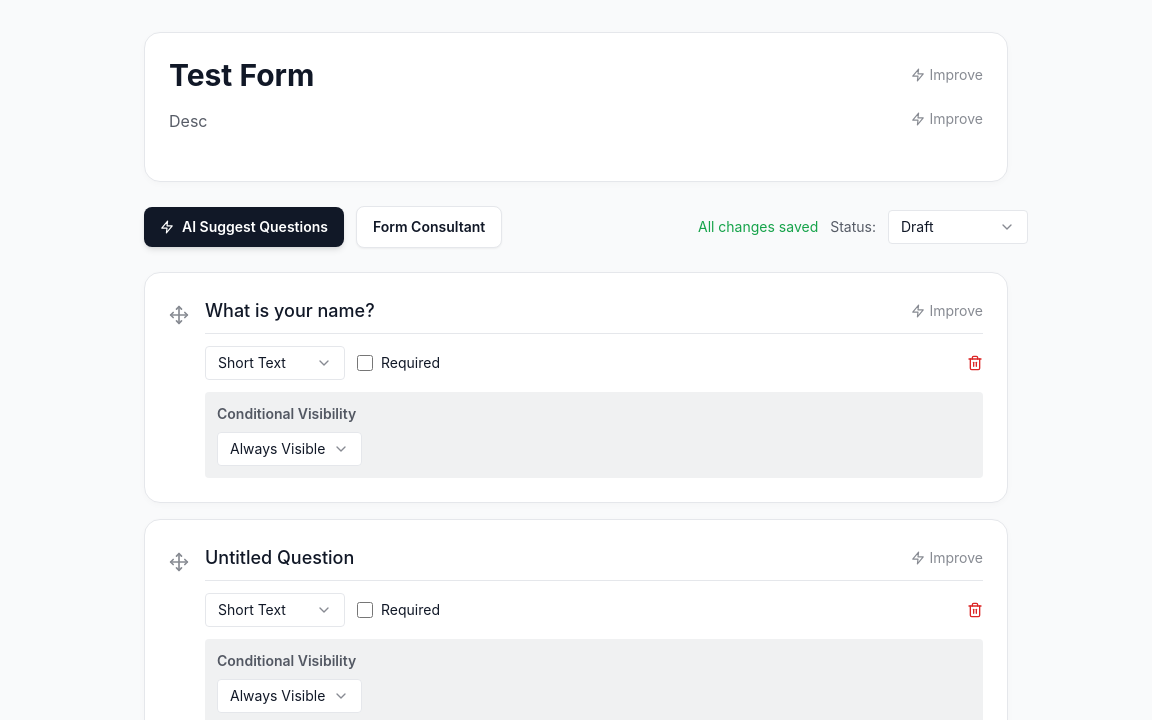
Test: FormBuilder Phase 6 AI Features › handles title writing improvement
Click the 1st button titled "Improve title with AI".
click(947, 75)  # box left=912, top=65, right=983, bottom=85
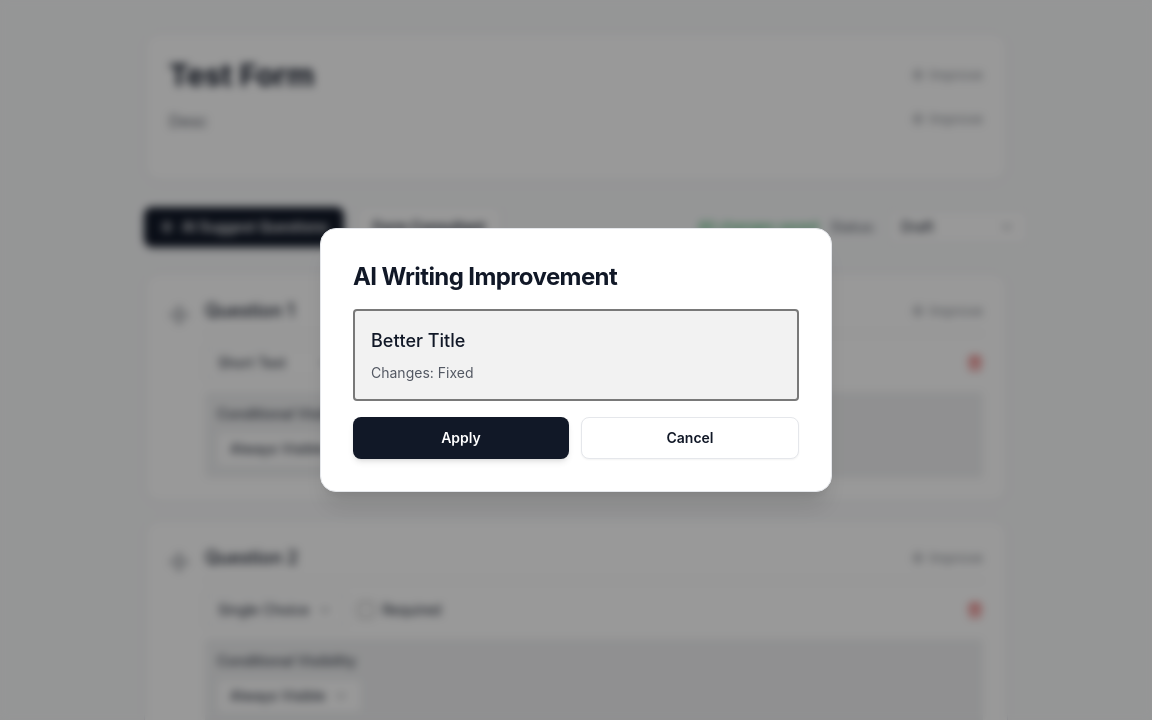
expect the text "Better Title" is shown: met, box left=371, top=330, right=465, bottom=351
Click the button "Apply".
click(461, 438)  # box left=353, top=417, right=569, bottom=459
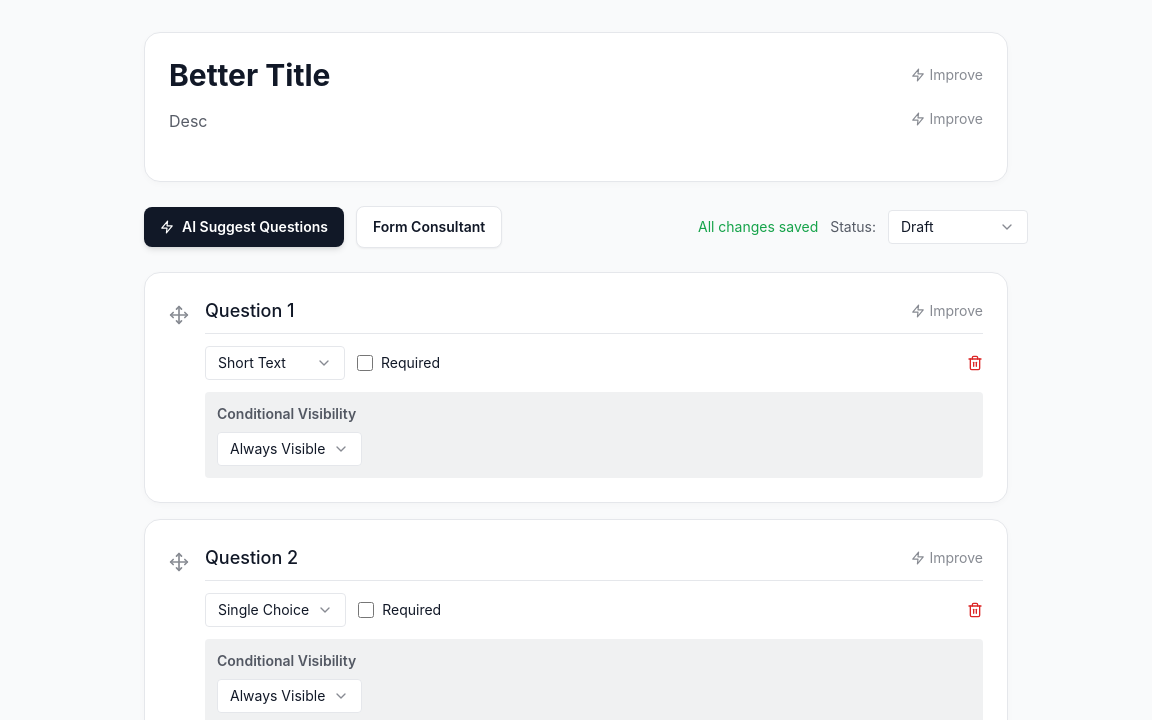
expect the heading "AI Writing Improvement" is gone: met
